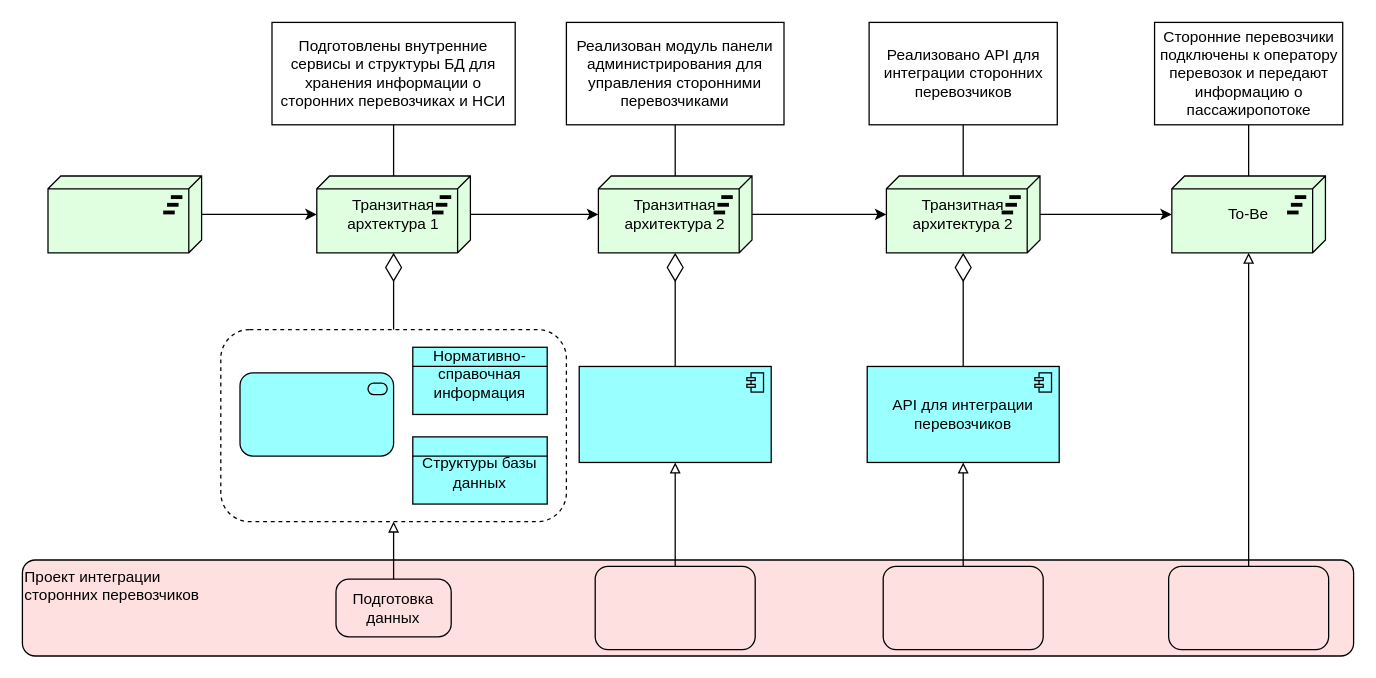
The diagram is 1376 pixels wide and 678 high, and some of its shapes have lost their labels. The shapes that lost their labels are listed below. From the top down, each one's centre as x and y in pixels, then its label:
At point 124,214: "As-Is".
At point 316,414: "Сервисы обработки данных сторонних перевозчиков".
At point 674,413: "Модуль панели администрирования".
At point 674,607: "Реализация модулей для панели администрировния".
At point 962,607: "Реализация API для интеграции перевозчиков".
At point 1248,607: "Подключение сторонних перевозчиков к основной системе".
